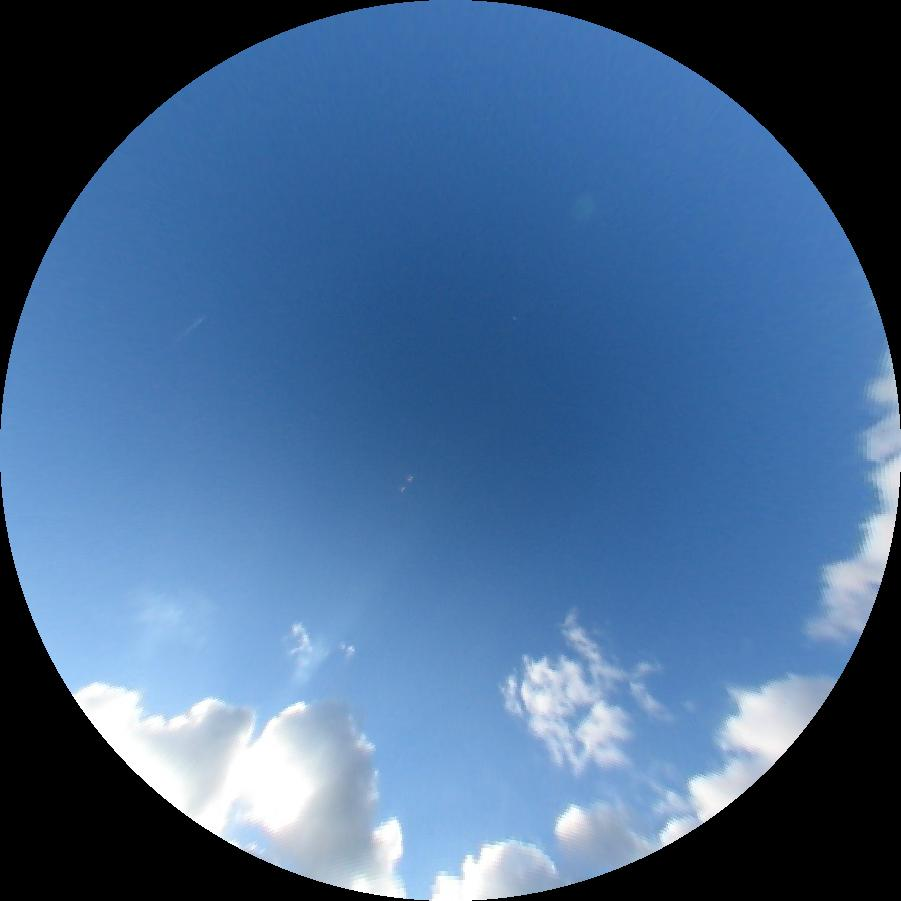contrail young: (175, 314, 208, 343)
